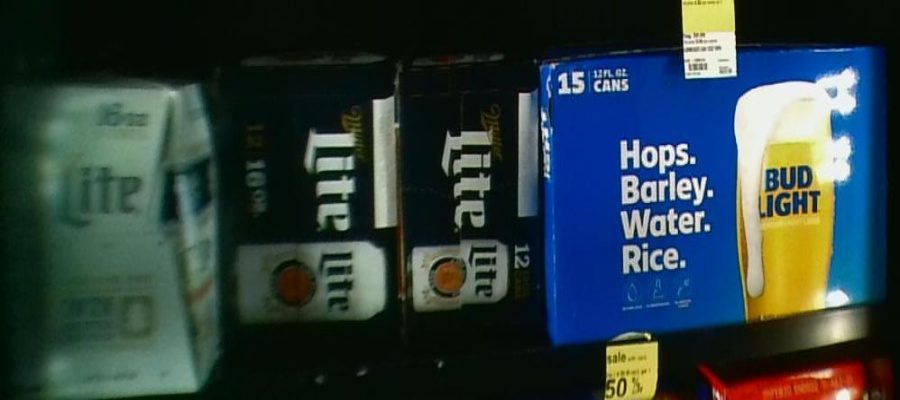bottle: (541, 48, 890, 320), (1, 86, 216, 394), (217, 54, 400, 359), (400, 55, 538, 333)
